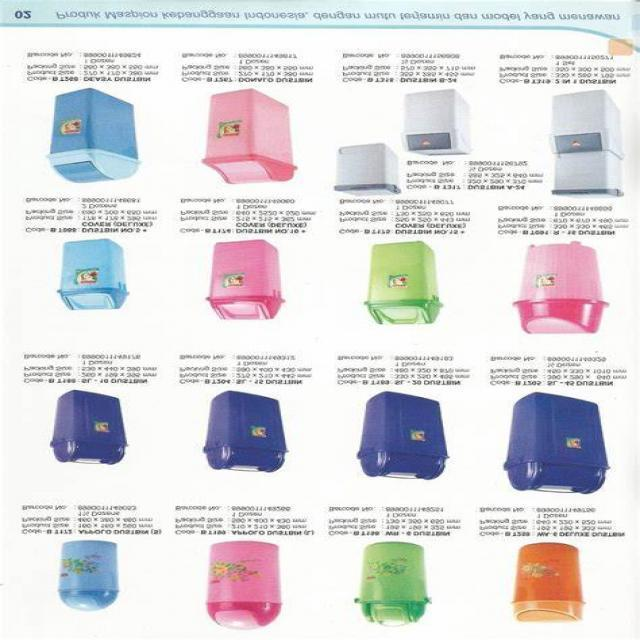garbage container: (29, 85, 185, 192), (21, 239, 173, 333), (494, 393, 625, 502), (32, 386, 162, 495), (191, 539, 329, 639), (196, 384, 315, 496), (194, 87, 319, 192), (496, 537, 628, 636), (504, 242, 630, 345), (16, 538, 164, 623), (345, 389, 475, 485), (191, 238, 329, 328), (345, 540, 475, 635), (351, 240, 479, 333), (410, 85, 479, 156), (334, 138, 410, 198), (553, 89, 627, 146), (553, 149, 630, 202)
